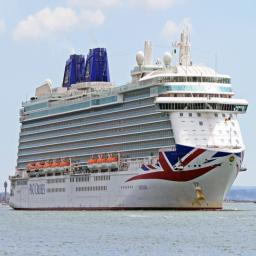cruises: (7, 24, 251, 219)
